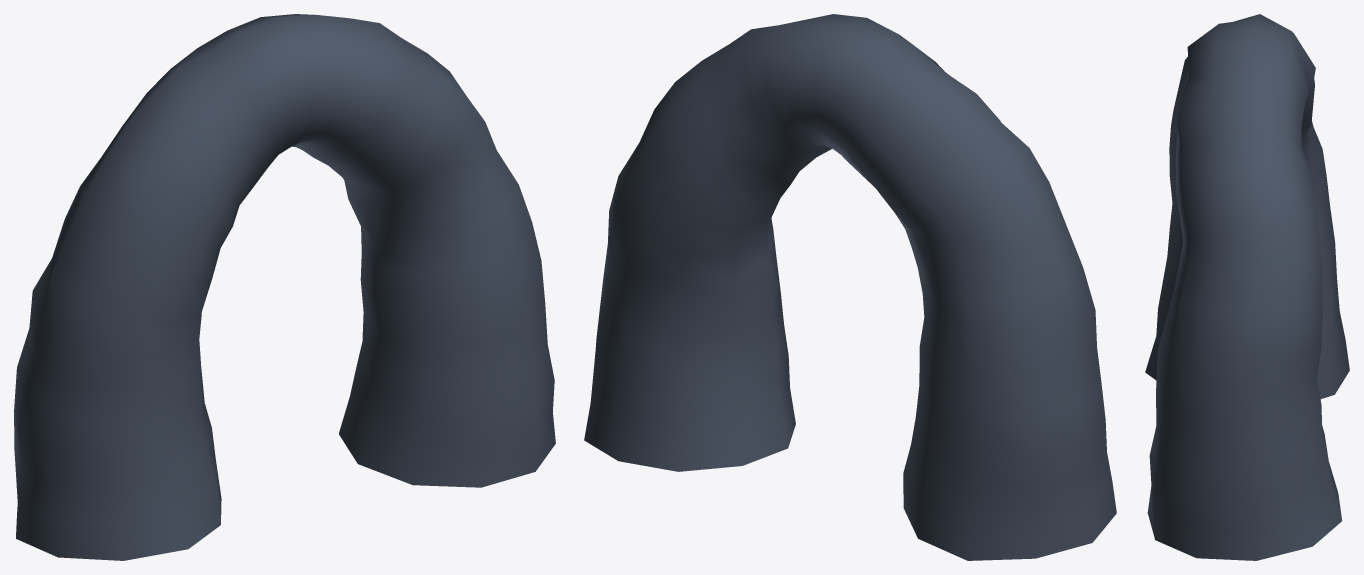
The model's file is rock_arch.glb.
3 views of the same model, side by side, from view 1: azimuth 30°, elevation 25°; view 2: azimuth 150°, elevation 25°; view 3: azimuth 270°, elevation 25° (orthographic). The views are drawn at different scales.
Visible parts, largest first — view 1: arch; view 2: arch; view 3: arch.
Boxes of the visible parts, x1,y1,x2,y2 form: arch: [14, 14, 555, 560]; arch: [584, 14, 1116, 560]; arch: [1145, 14, 1349, 560].
Bounding box in the file's own units: 14.18 × 12.16 × 5.36.
